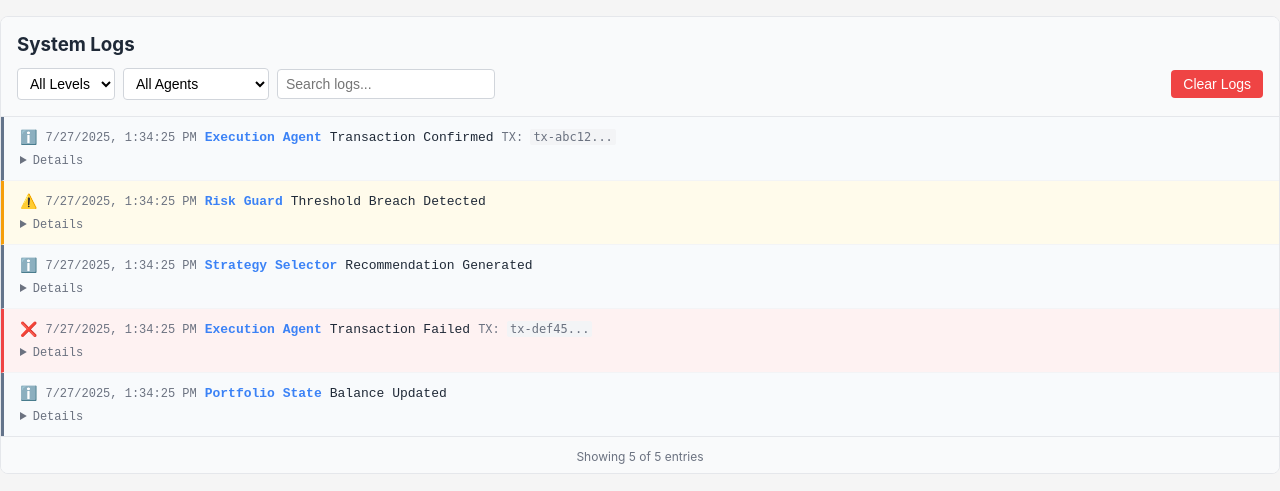
LogDisplay › filters logs by agent
The width and height of the screenshot is (1280, 491).
Select "Execution Agent" in the dropdown named "Filter by agent" at (196, 84), box 123,68 -> 269,100
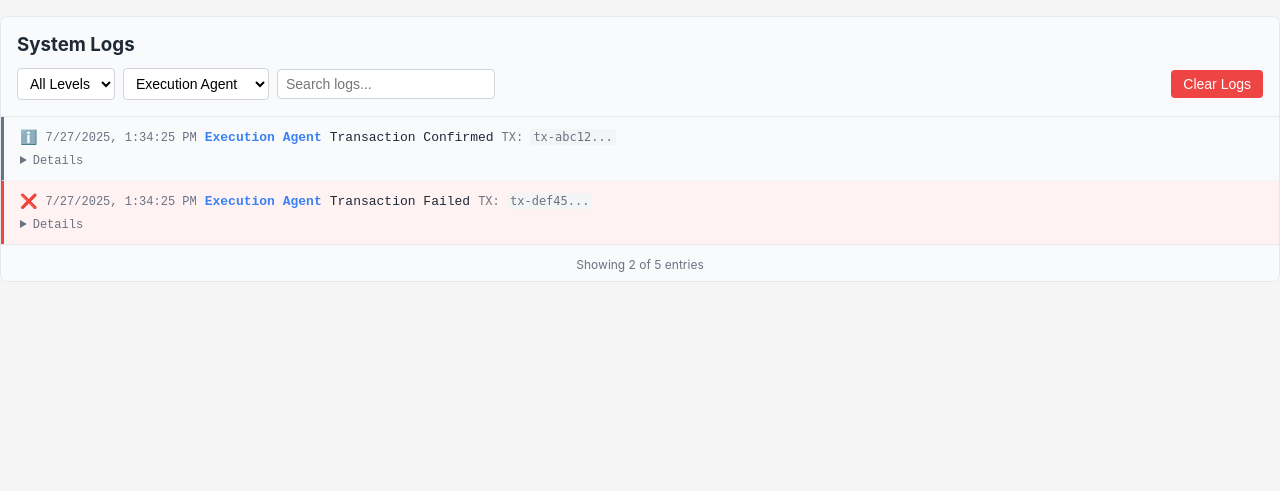
Expected: the text "Transaction Confirmed" is shown, 330,130 -> 494,145
Now the text "Threshold Breach Detected" is gone
Now the text "Recommendation Generated" is gone
